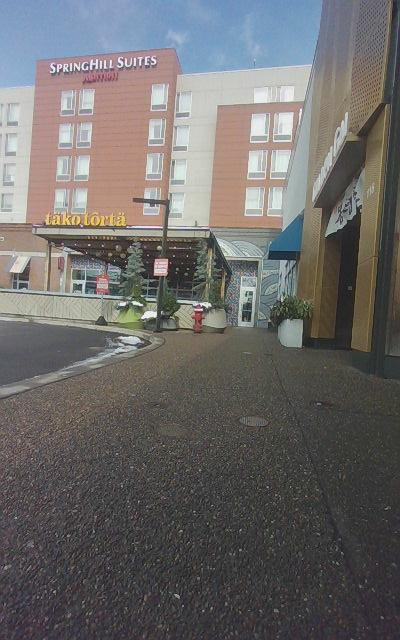curb: (0, 328, 399, 639)
road: (0, 321, 147, 385)
